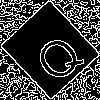Q: (25, 25, 88, 88)
